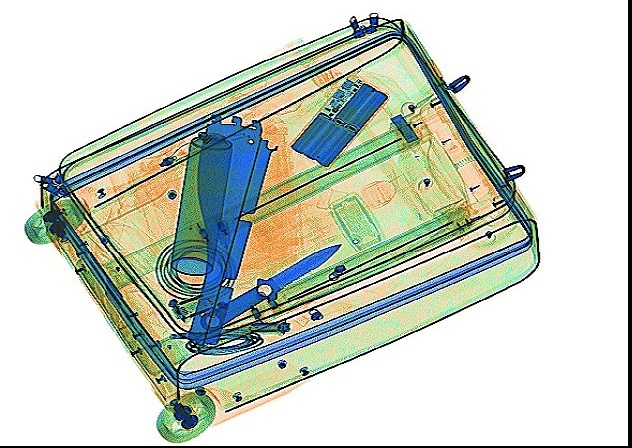knife: (198, 243, 342, 331)
powerbank: (286, 72, 390, 170)
pressure: (168, 129, 232, 275)
